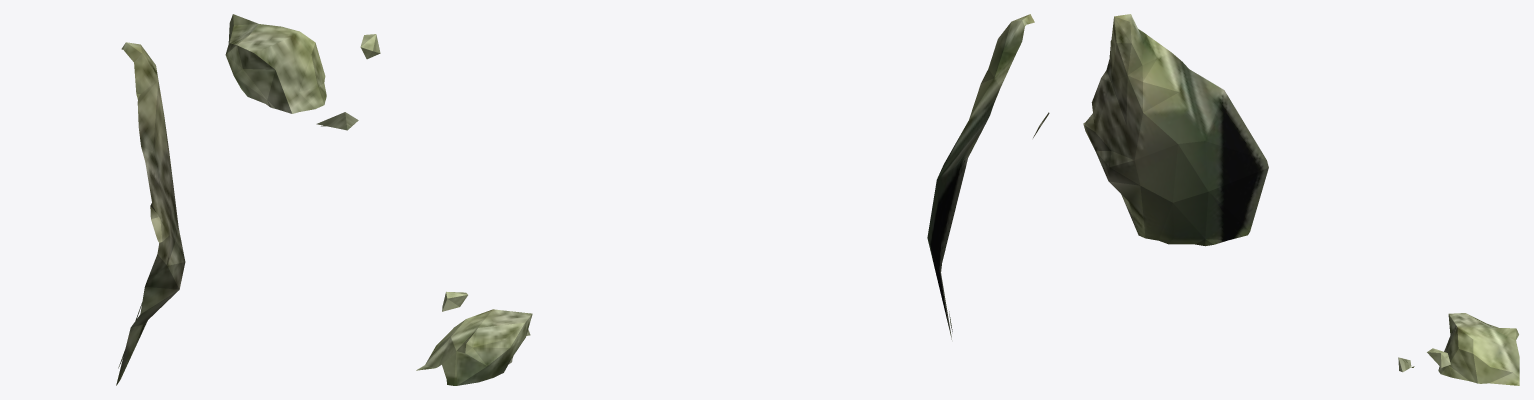
The picture shows the model from 3 angles, left to right: view 1: azimuth 30°, elevation 25°; view 2: azimuth 150°, elevation 25°; view 3: azimuth 270°, elevation 25°; orthographic projection. The views are drawn at different scales.
Bounding box in the file's own units: 7.29 × 4.83 × 8.59.
Materials: 1 (1 with a texture image).
